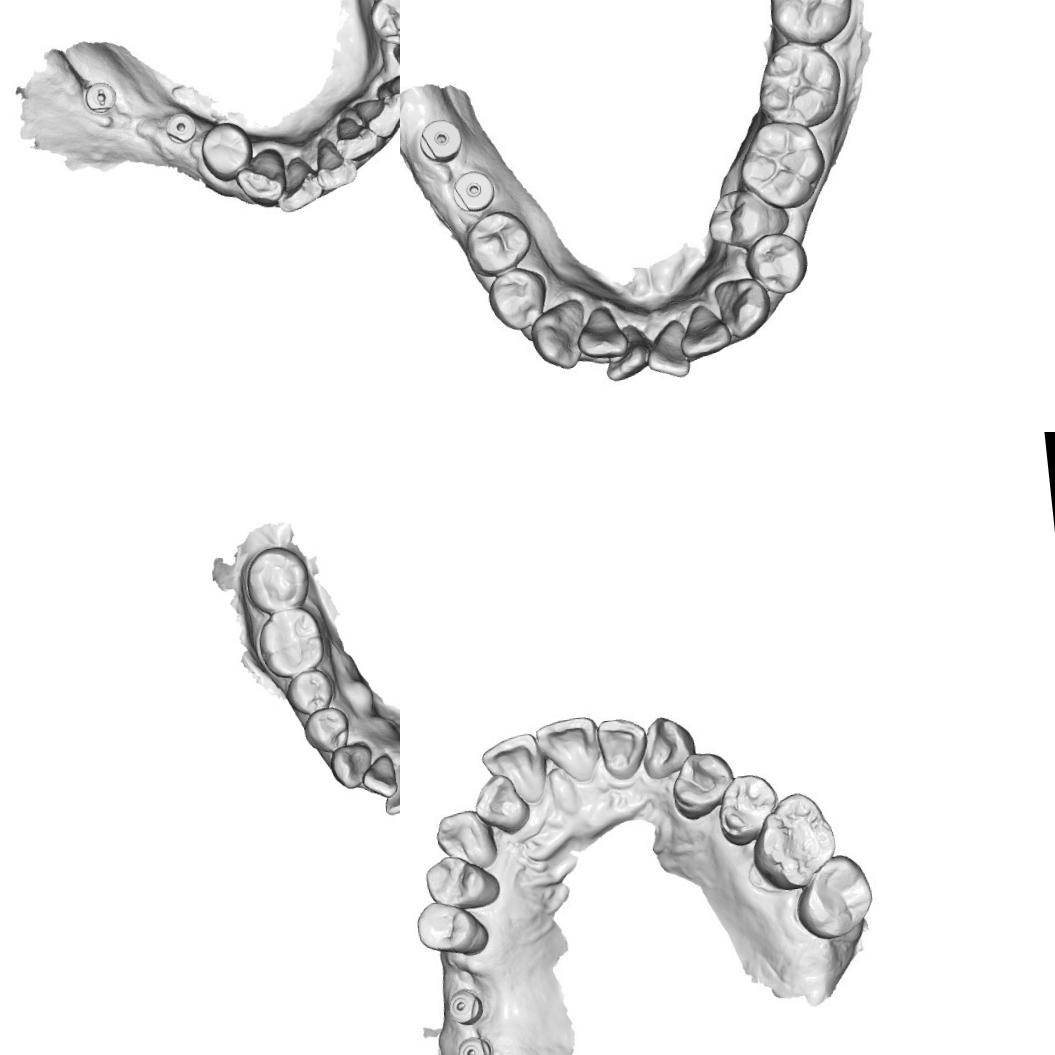canine: (430, 804, 505, 876), (632, 712, 695, 782), (529, 299, 588, 372), (714, 274, 774, 340), (236, 151, 287, 209), (328, 742, 375, 791), (379, 72, 400, 131)
implant: (414, 114, 465, 166), (448, 167, 499, 216), (444, 985, 482, 1024), (159, 110, 198, 146), (455, 1034, 492, 1055)
implant_minus: (78, 72, 120, 122)
incisor: (538, 716, 606, 792), (484, 736, 550, 809), (640, 317, 694, 382), (595, 720, 648, 786), (676, 300, 734, 360), (573, 304, 628, 364), (602, 325, 654, 383), (313, 134, 359, 196), (475, 776, 526, 831), (276, 157, 322, 211), (355, 90, 400, 137), (337, 115, 379, 165), (359, 753, 399, 800), (381, 768, 400, 816)
molar: (734, 116, 830, 214), (755, 37, 848, 131), (756, 796, 836, 886), (803, 858, 872, 936), (255, 606, 327, 680), (242, 543, 312, 615), (762, 0, 856, 48)
premolar: (704, 184, 790, 252), (708, 772, 780, 846), (460, 208, 534, 277), (740, 232, 810, 298), (672, 754, 736, 824), (484, 265, 548, 333), (424, 853, 494, 905), (418, 901, 476, 952), (301, 705, 352, 755), (284, 667, 335, 716), (202, 124, 248, 178), (373, 0, 400, 43)
